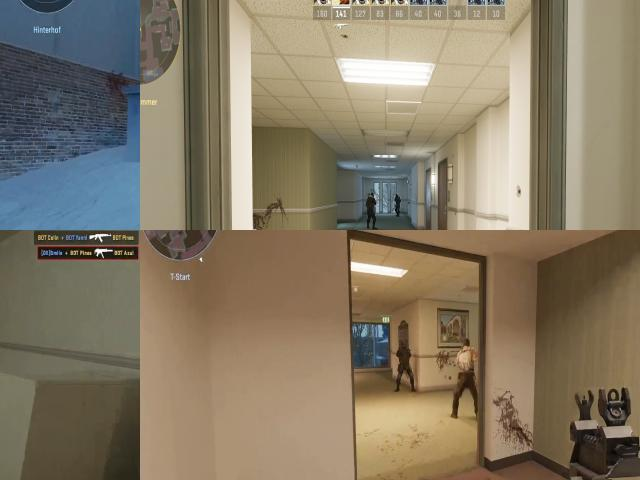CT: (396, 347, 413, 368), (367, 192, 375, 228), (395, 194, 400, 215)
CT-Head: (400, 340, 408, 353), (370, 193, 374, 197), (395, 194, 398, 198)
T: (453, 346, 479, 377)
T-Head: (459, 337, 473, 352)
